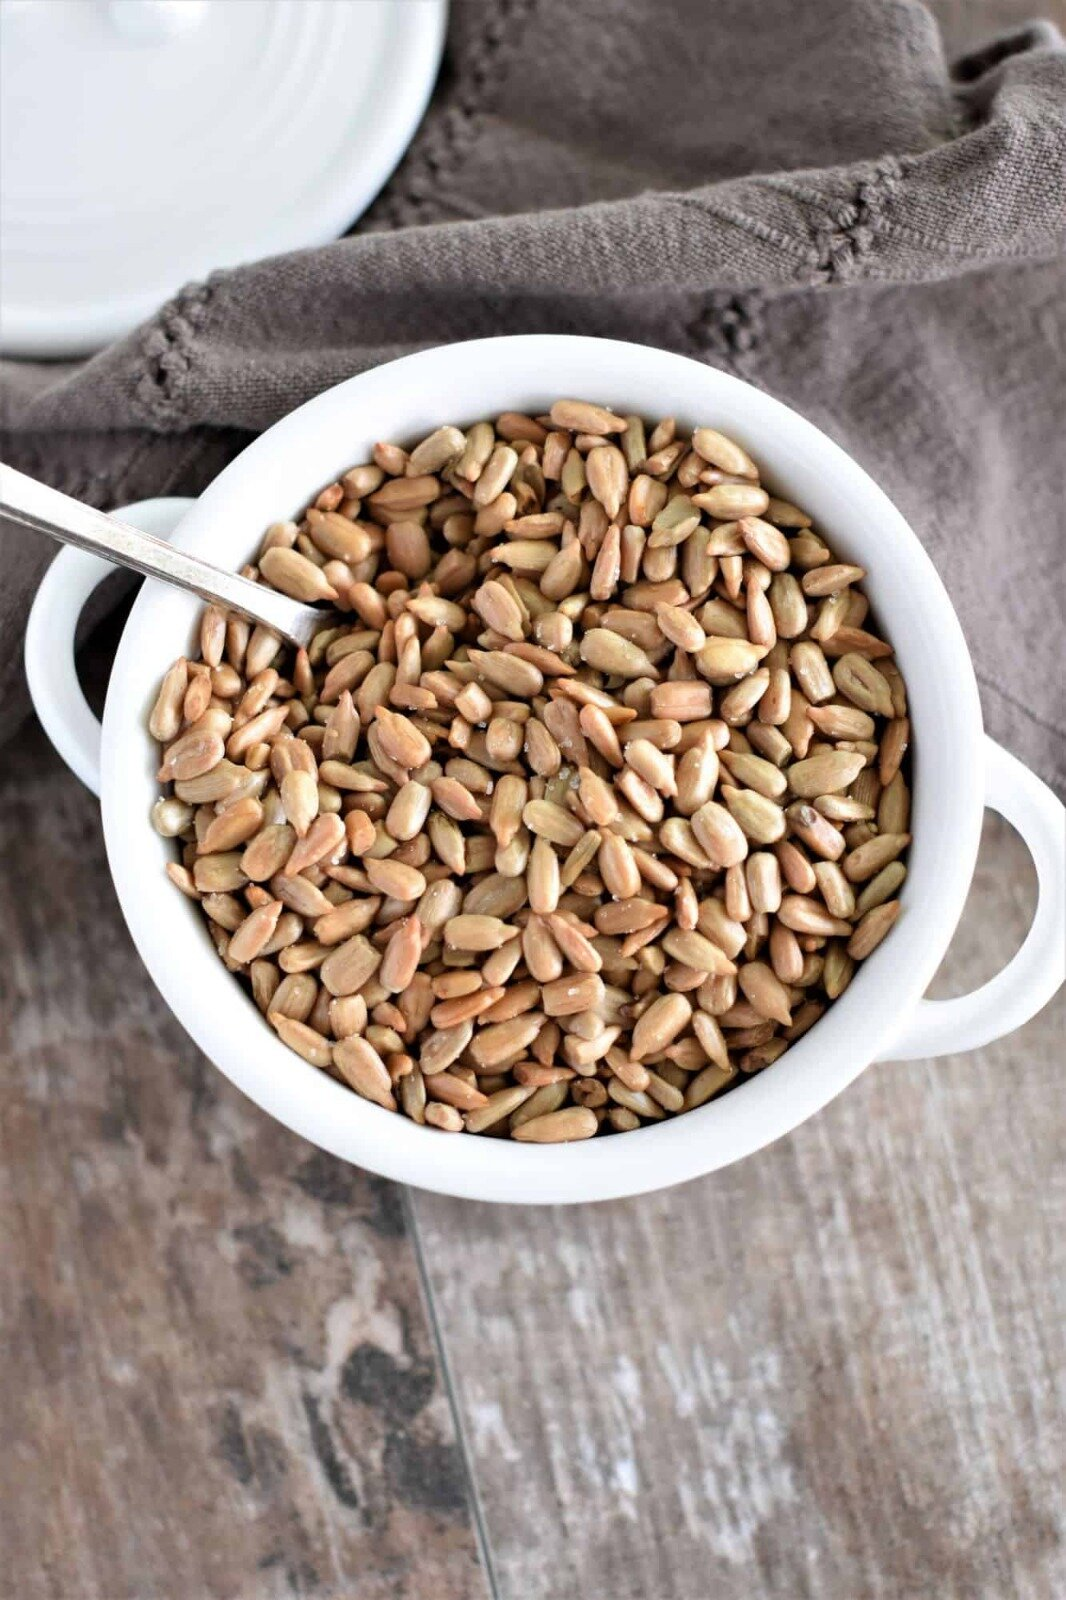seed: (148, 387, 942, 1155)
